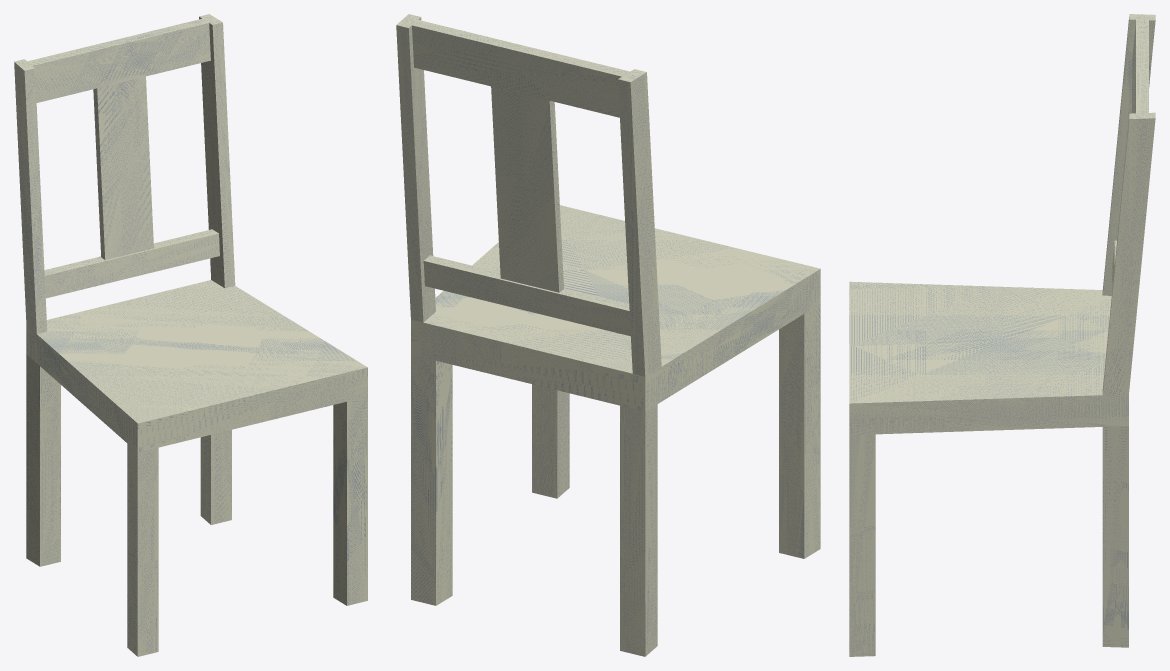
The picture shows the model from 3 angles, left to right: view 1: azimuth 30°, elevation 25°; view 2: azimuth 150°, elevation 25°; view 3: azimuth 270°, elevation 25°; orthographic projection. The views are drawn at different scales.
Visible parts, largest first — view 1: Seat, Leg (×2), Vertical_Slat (×2), Leg_1 (×2), Vertical_Support, Horizontal_Slat, Horizontal_Support; view 2: Seat, Leg_1 (×2), Vertical_Slat (×2), Leg (×2), Vertical_Support, Horizontal_Slat, Horizontal_Support; view 3: Seat, Vertical_Slat (×2), Leg, Leg_1, Horizontal_Slat.
Part boxes in pixels (x1,y1,x2,y2): Seat: [26, 280, 367, 452]; Leg (×2): [127, 396, 367, 656]; Vertical_Slat (×2): [14, 14, 235, 333]; Leg_1 (×2): [26, 354, 231, 566]; Vertical_Support: [93, 76, 153, 260]; Horizontal_Slat: [27, 18, 210, 102]; Horizontal_Support: [44, 229, 219, 298]; Seat: [411, 205, 820, 411]; Leg_1 (×2): [411, 354, 657, 656]; Vertical_Slat (×2): [396, 14, 661, 376]; Leg (×2): [532, 304, 820, 558]; Vertical_Support: [491, 86, 563, 292]; Horizontal_Slat: [412, 20, 629, 117]; Horizontal_Support: [423, 255, 630, 336]; Seat: [849, 281, 1128, 435]; Vertical_Slat (×2): [1102, 14, 1155, 395]; Leg: [849, 434, 875, 656]; Leg_1: [1102, 426, 1128, 647]; Horizontal_Slat: [1132, 19, 1148, 113].
Size of the model in its own units: 16.5 by 17.53 by 33.43.
